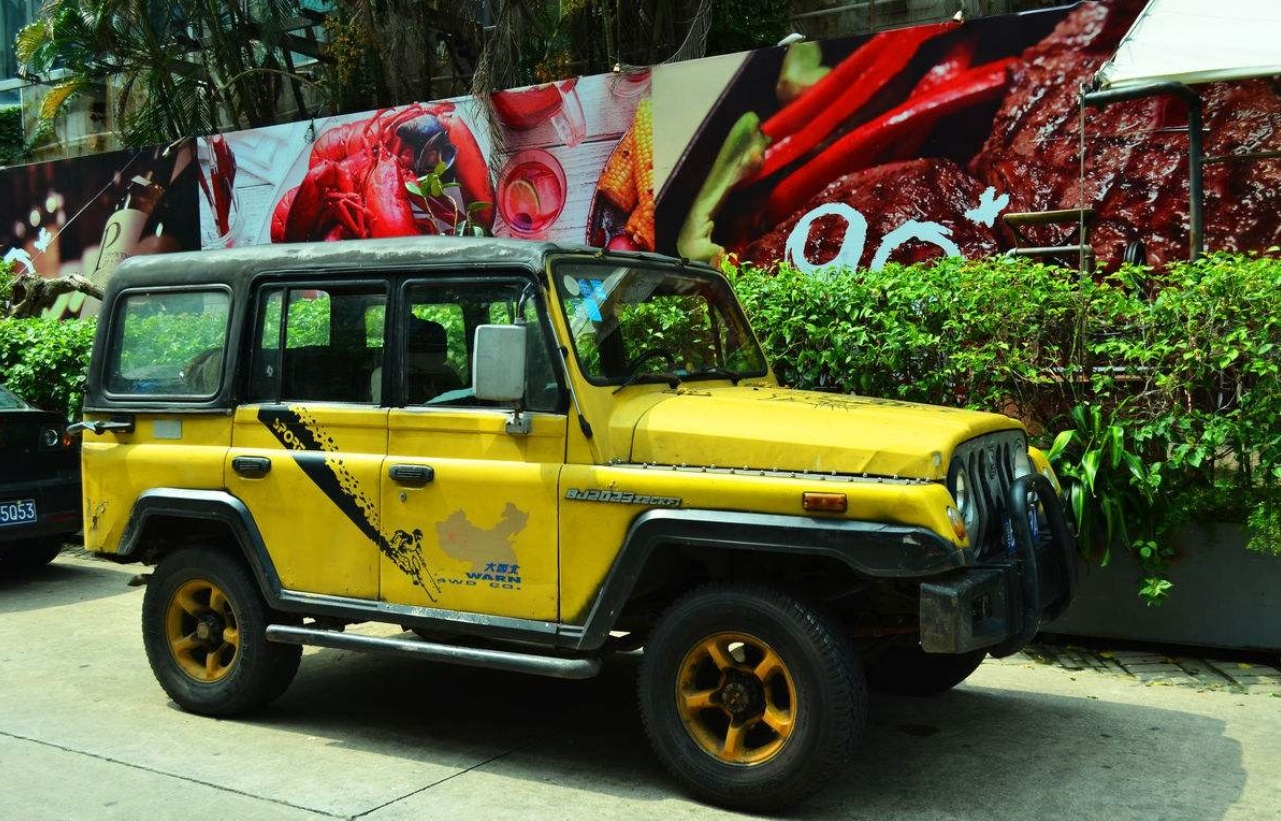jeep: (72, 228, 1033, 781)
